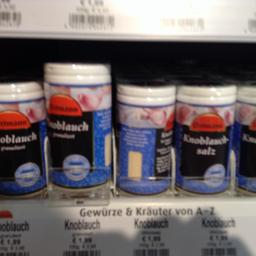spices: (42, 62, 110, 188), (174, 78, 236, 193), (114, 79, 175, 194), (0, 80, 43, 199)
